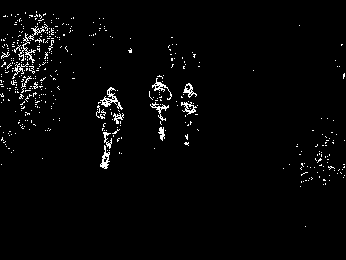person: (95, 87, 124, 170), (146, 73, 172, 139), (182, 81, 202, 148)
